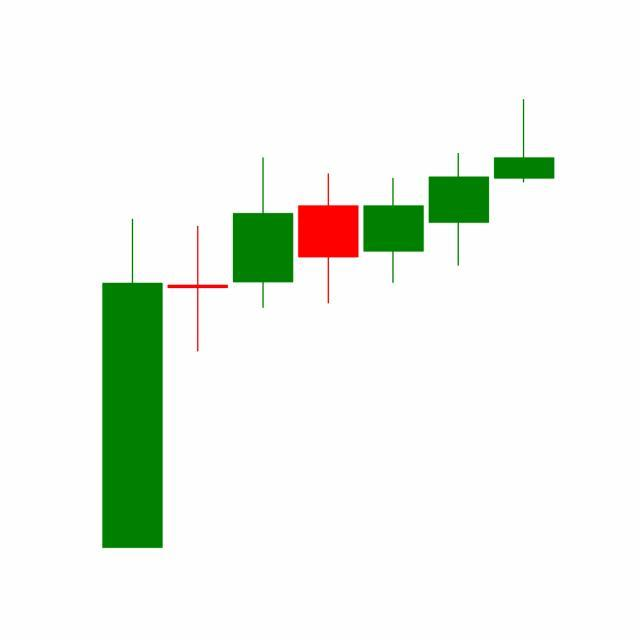Hikkake Pattern: (165, 151, 492, 355)
